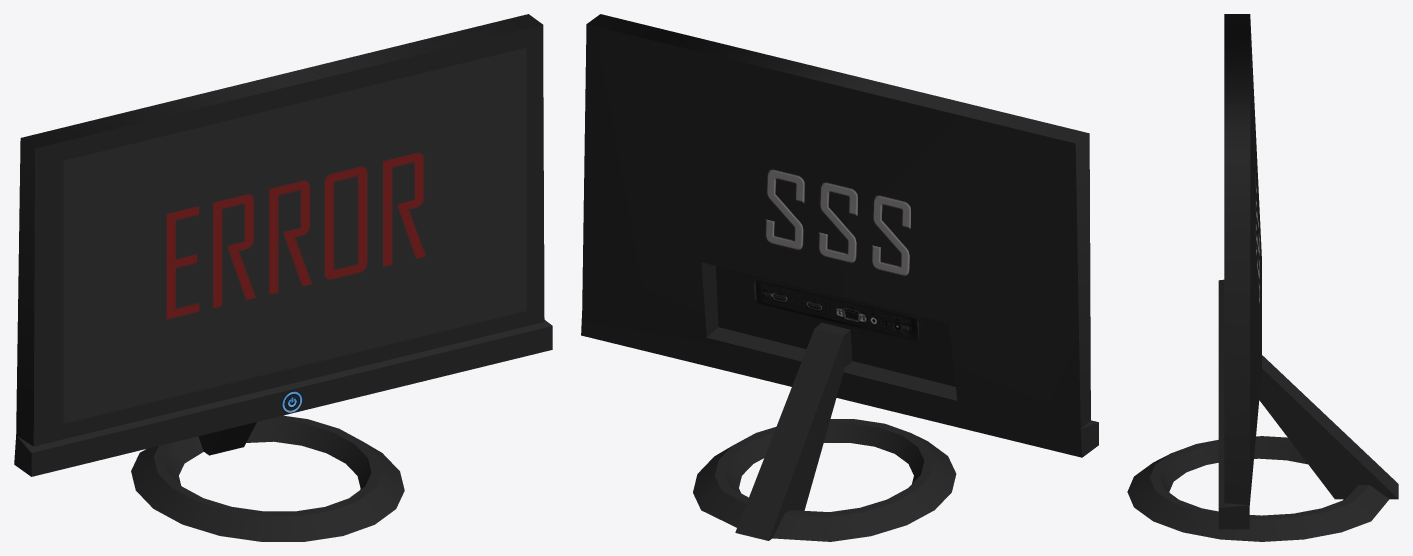
The model's file is ComputerScreen.FBX.
The picture shows the model from 3 angles, left to right: view 1: azimuth 30°, elevation 25°; view 2: azimuth 150°, elevation 25°; view 3: azimuth 270°, elevation 25°; orthographic projection. The views are drawn at different scales.
Visible parts, largest first — view 1: ComputerScreenA, ComputerScreenC, ComputerScreenB; view 2: ComputerScreenA, ComputerScreenC, ComputerScreenB; view 3: ComputerScreenA, ComputerScreenC, ComputerScreenB.
Part boxes in pixels (left/top/right/bottom): ComputerScreenA: left=14, top=14, right=552, bottom=476; ComputerScreenC: left=131, top=415, right=404, bottom=541; ComputerScreenB: left=198, top=422, right=256, bottom=455; ComputerScreenA: left=581, top=14, right=1098, bottom=457; ComputerScreenC: left=693, top=419, right=956, bottom=541; ComputerScreenB: left=735, top=322, right=852, bottom=540; ComputerScreenA: left=1218, top=14, right=1261, bottom=529; ComputerScreenC: left=1127, top=436, right=1389, bottom=541; ComputerScreenB: left=1259, top=355, right=1398, bottom=499.
Size of the model in its own units: 140 by 105 by 70.57.
1 material, 1 textured.
